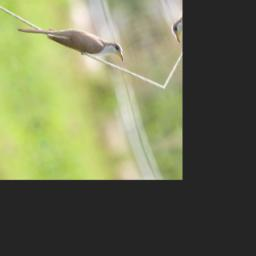Cuckoo: (13, 0, 127, 90)
